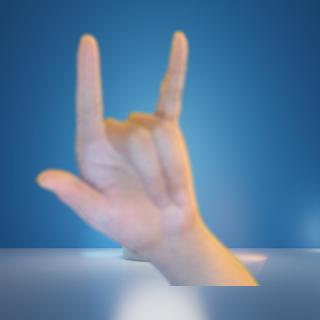ILY: (31, 25, 217, 251)
